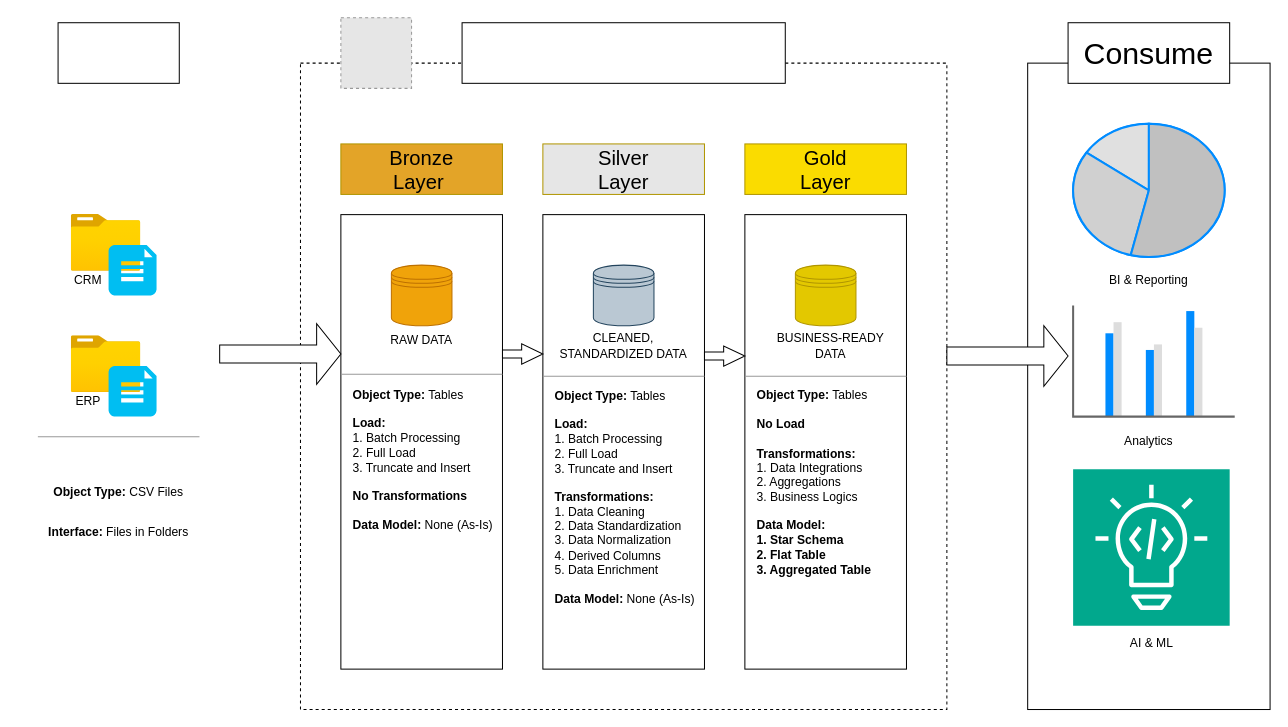
Some shapes in this 1288 by 727 pixel diagram are drawn without their labels. Grey dashed boxes stand in for pictures. The shapes that lost their labels are listed below. From the top down, each one's centre as x and y in pixels, then its label:
At (118,52): "Sources".
At (623,52): "Data Warehouse".
